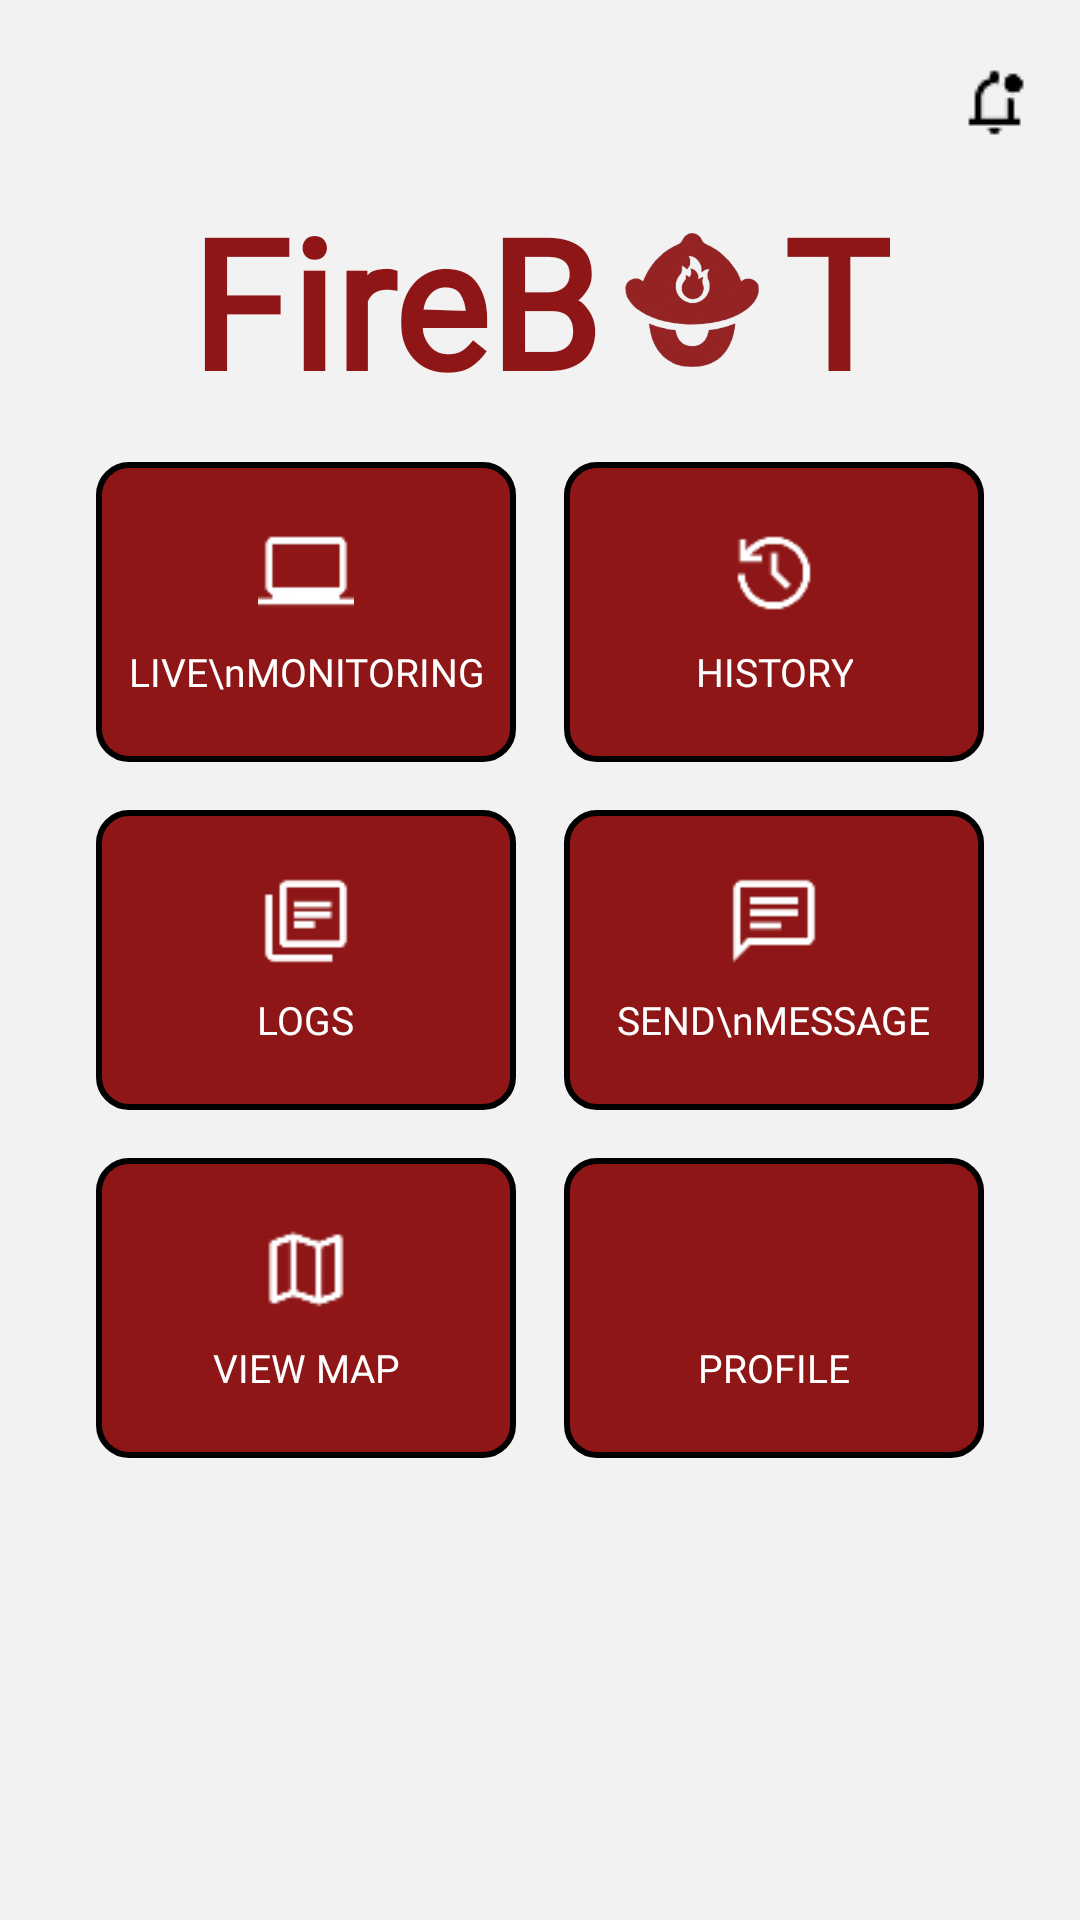

Icon click points for this 1080w x 1920h phone screenshot, format (x=x, y=y):
files: (x=306, y=921)
laptop: (x=306, y=571)
Notifications: (x=996, y=102)
